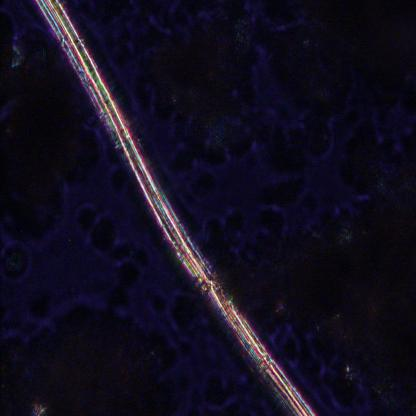Microfibre: (35, 0, 316, 415)
